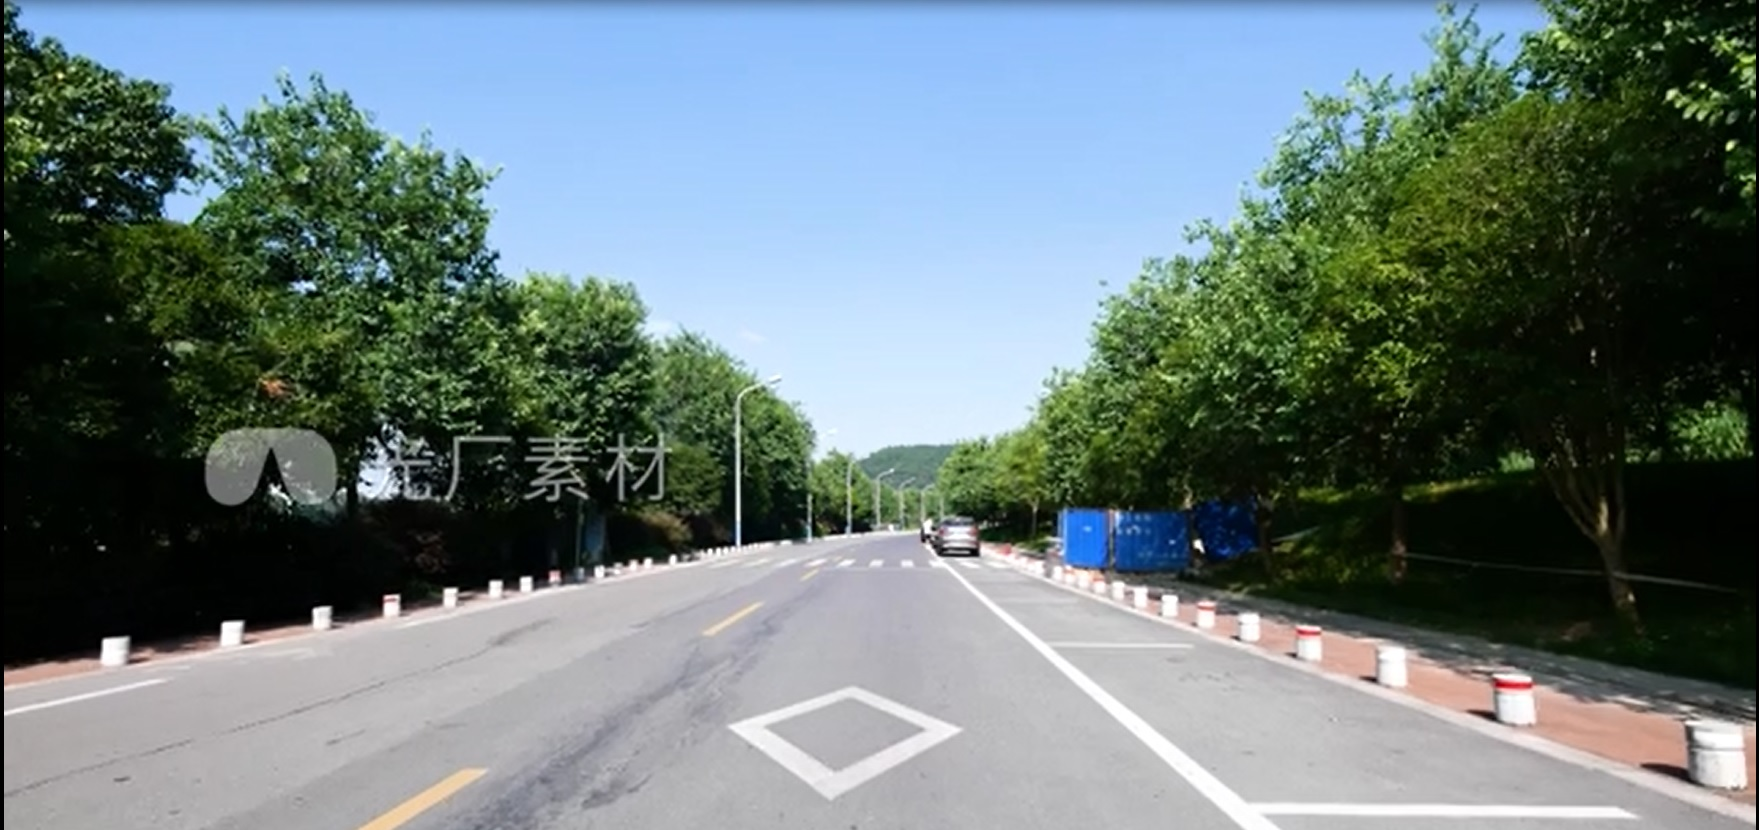slot_nocar: (1025, 612, 1702, 830), (967, 583, 1234, 667)
